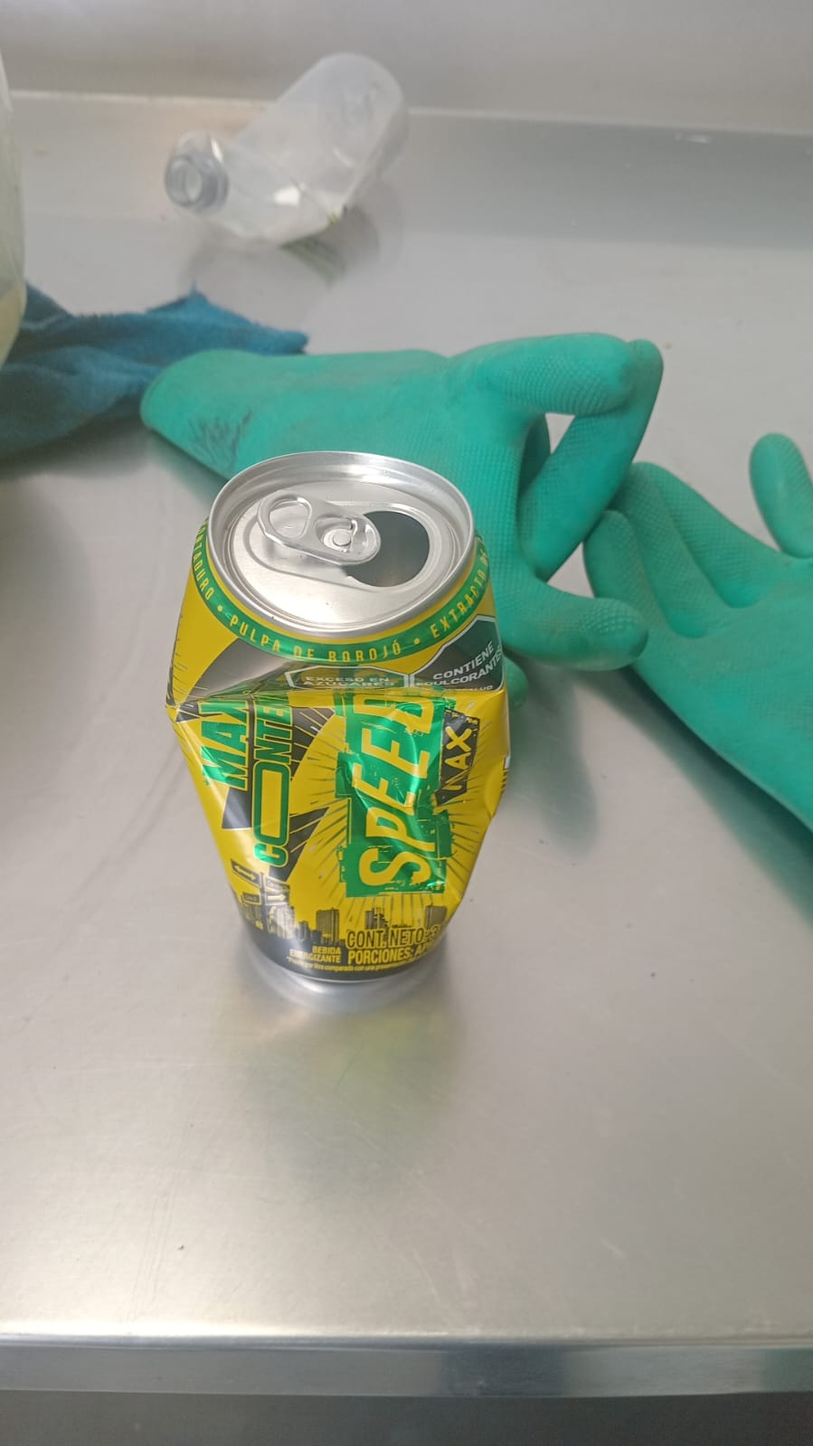Metal: (157, 448, 510, 984)
